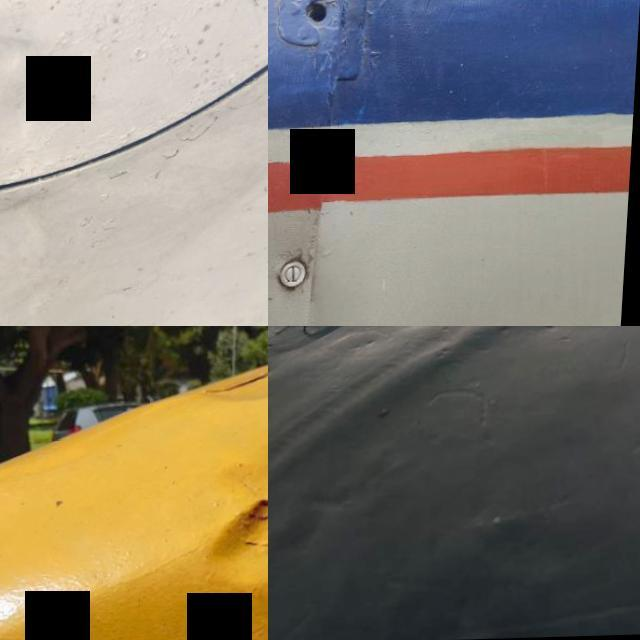Crack: (268, 326, 386, 358)
Dent: (182, 452, 268, 623), (0, 280, 85, 326)
Missing_Fastener: (276, 0, 348, 53)
